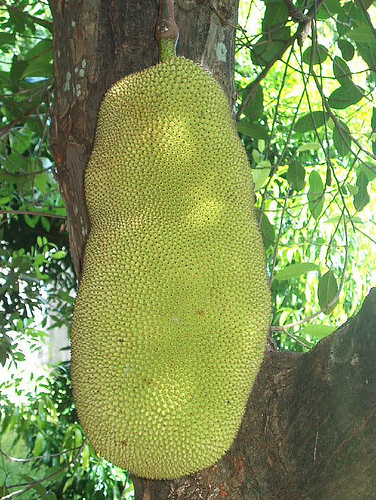jackfruit: (68, 53, 271, 477)
